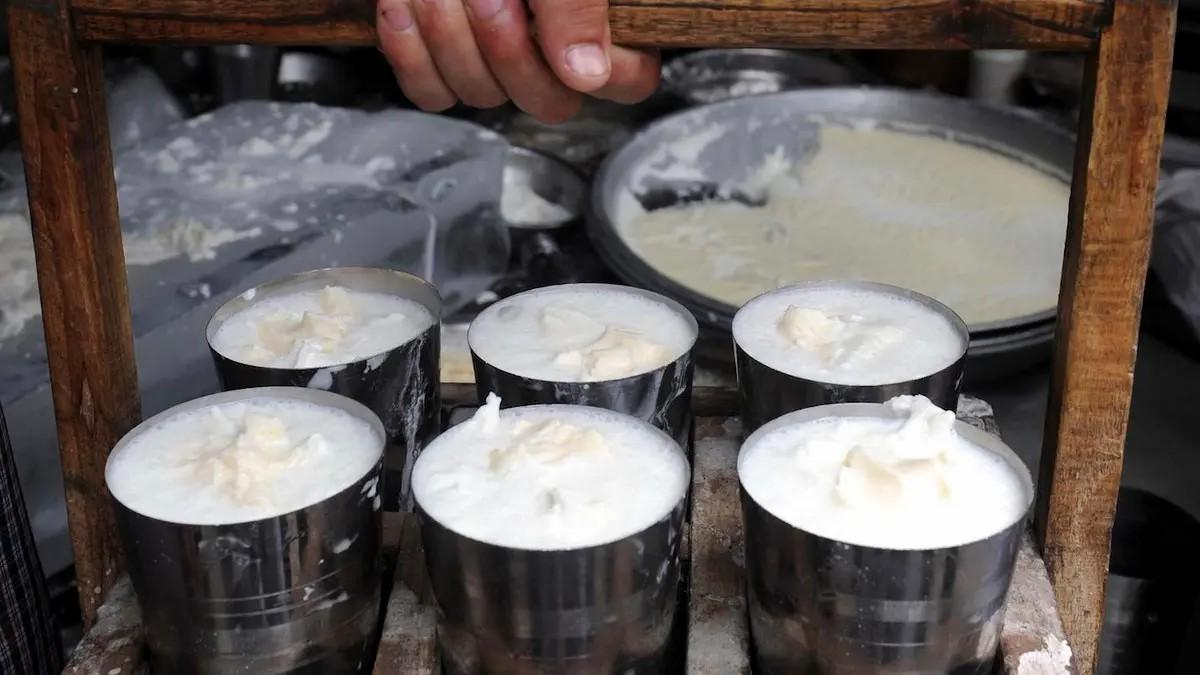Lassi: (739, 395, 1025, 549), (411, 392, 688, 550), (106, 396, 384, 523), (733, 286, 961, 385), (469, 289, 698, 382), (210, 286, 434, 368)
